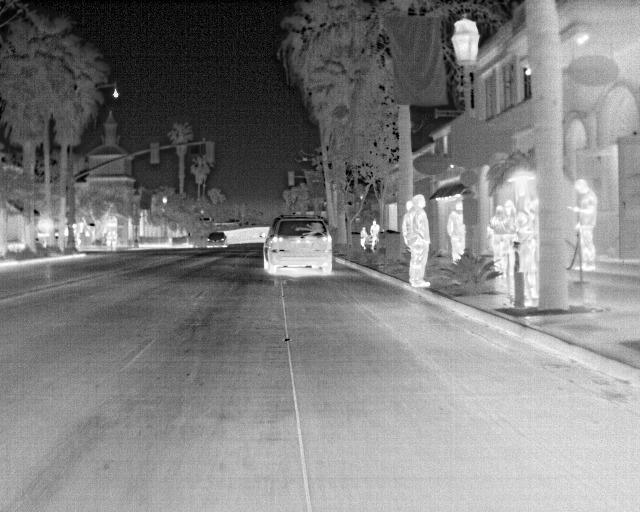bicycle: (261, 211, 336, 278), (206, 230, 228, 249)
empty: (565, 178, 600, 272), (408, 191, 432, 288), (485, 206, 513, 272), (444, 200, 468, 266), (369, 219, 381, 252), (358, 227, 370, 254)
